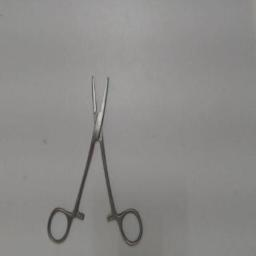Mayo Needle Holder: (44, 61, 148, 251)
